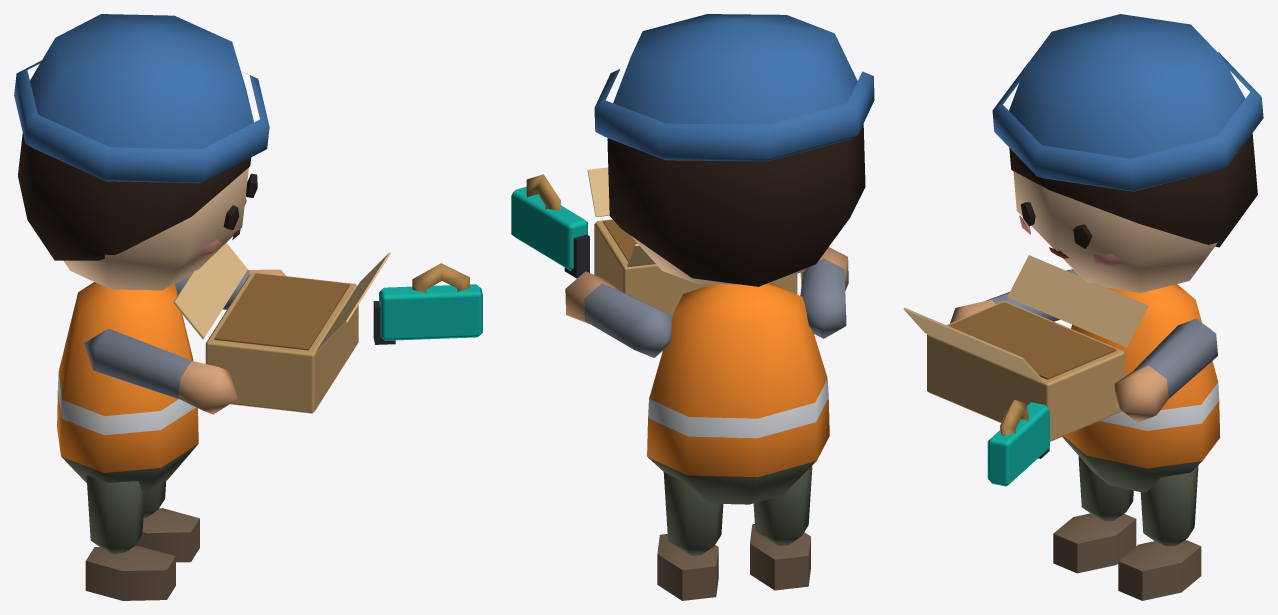
File: station_processing_ausstattung_2_1.glb
3 renders of one model, left to right at view 1: azimuth 30°, elevation 25°; view 2: azimuth 150°, elevation 25°; view 3: azimuth 270°, elevation 25°, orthographic. The views are drawn at different scales.
Parts seen in each view (by area): view 1: station_processing_ausstattung_2_1; view 2: station_processing_ausstattung_2_1; view 3: station_processing_ausstattung_2_1.
Boxes of the visible parts, left/top/right/bottom form: station_processing_ausstattung_2_1: left=14, top=14, right=482, bottom=600; station_processing_ausstattung_2_1: left=511, top=14, right=874, bottom=600; station_processing_ausstattung_2_1: left=903, top=14, right=1263, bottom=600.
Bounding box in the file's own units: 0.8865 × 1.15 × 0.7039.
